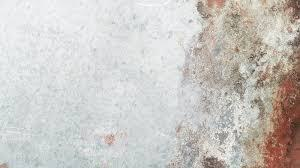Corrosion: (264, 68, 300, 168)
Spalling: (165, 1, 300, 168)
